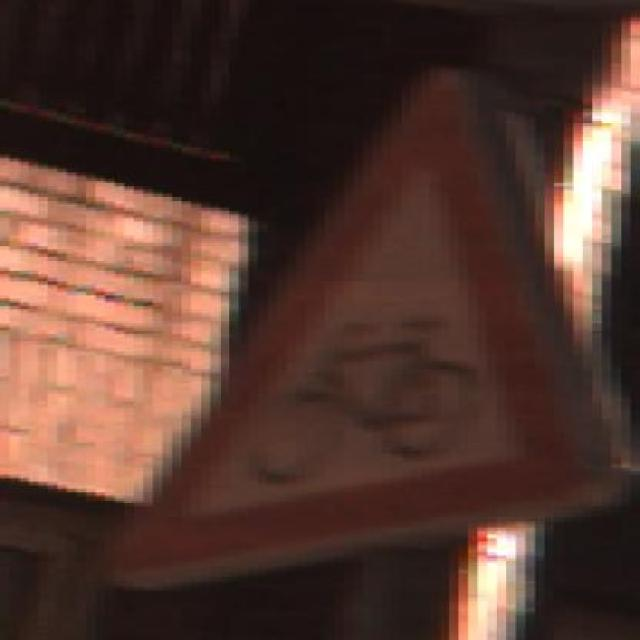CYCLE ROUTE AHEAD WARNING: (124, 63, 602, 580)
